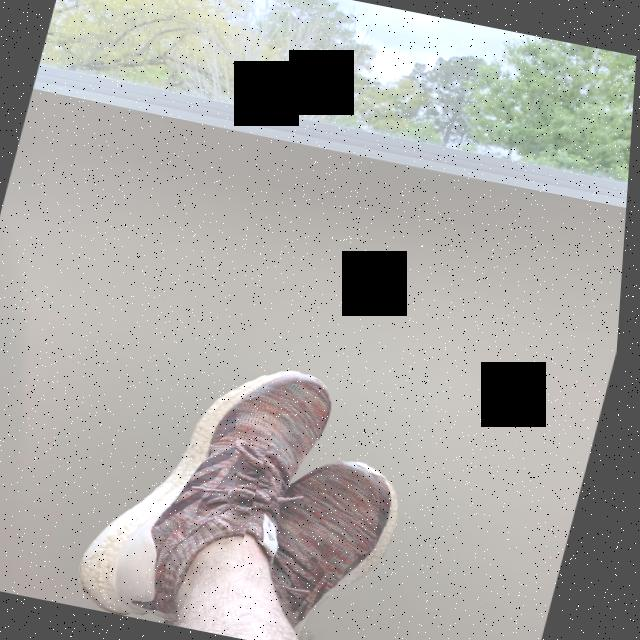shoe: (57, 319, 356, 640), (229, 428, 438, 640)
